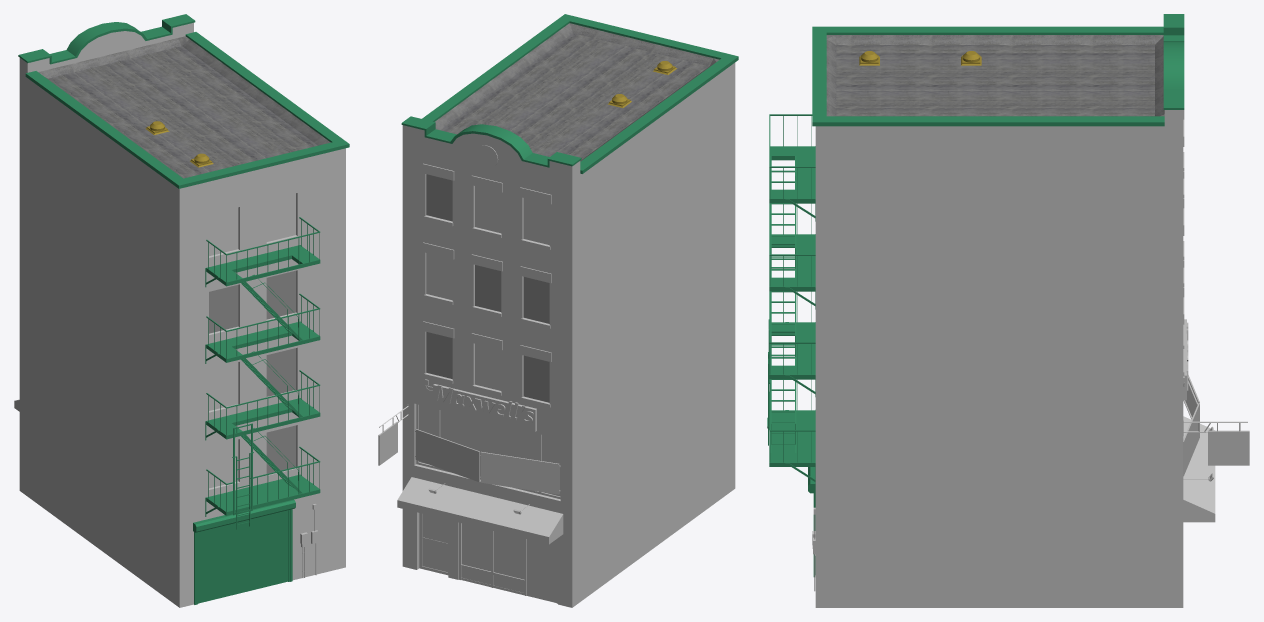
Rendered from mcp_building_20_LOD_0.FBX.
3 renders of one model, left to right at view 1: azimuth 30°, elevation 25°; view 2: azimuth 150°, elevation 25°; view 3: azimuth 270°, elevation 25°, orthographic. The views are drawn at different scales.
Visible parts, largest first — view 1: mcp_building_20_walls, mcp_building_20_roof, mcp_building_20_props_01, mcp_building_20, mcp_building_20_concrete; view 2: mcp_building_20_walls, mcp_building_20, mcp_building_20_roof, mcp_building_20_concrete; view 3: mcp_building_20_walls, mcp_building_20_roof, mcp_building_20_props_01, mcp_building_20_concrete, mcp_building_20.
Part boxes in pixels (box(x1,y1,x2,y2)): mcp_building_20_walls: box(19, 22, 345, 607); mcp_building_20_roof: box(38, 36, 330, 178); mcp_building_20_props_01: box(193, 217, 320, 604); mcp_building_20: box(14, 193, 318, 577); mcp_building_20_concrete: box(18, 14, 349, 188); mcp_building_20_walls: box(402, 62, 735, 607); mcp_building_20: box(378, 145, 563, 603); mcp_building_20_roof: box(435, 23, 719, 161); mcp_building_20_concrete: box(401, 14, 738, 407); mcp_building_20_walls: box(815, 110, 1183, 607); mcp_building_20_roof: box(826, 35, 1164, 116); mcp_building_20_props_01: box(767, 114, 815, 576); mcp_building_20_concrete: box(812, 14, 1184, 375); mcp_building_20: box(812, 319, 1249, 591).
Size of the model in its own units: 818 by 2045 by 1743.
